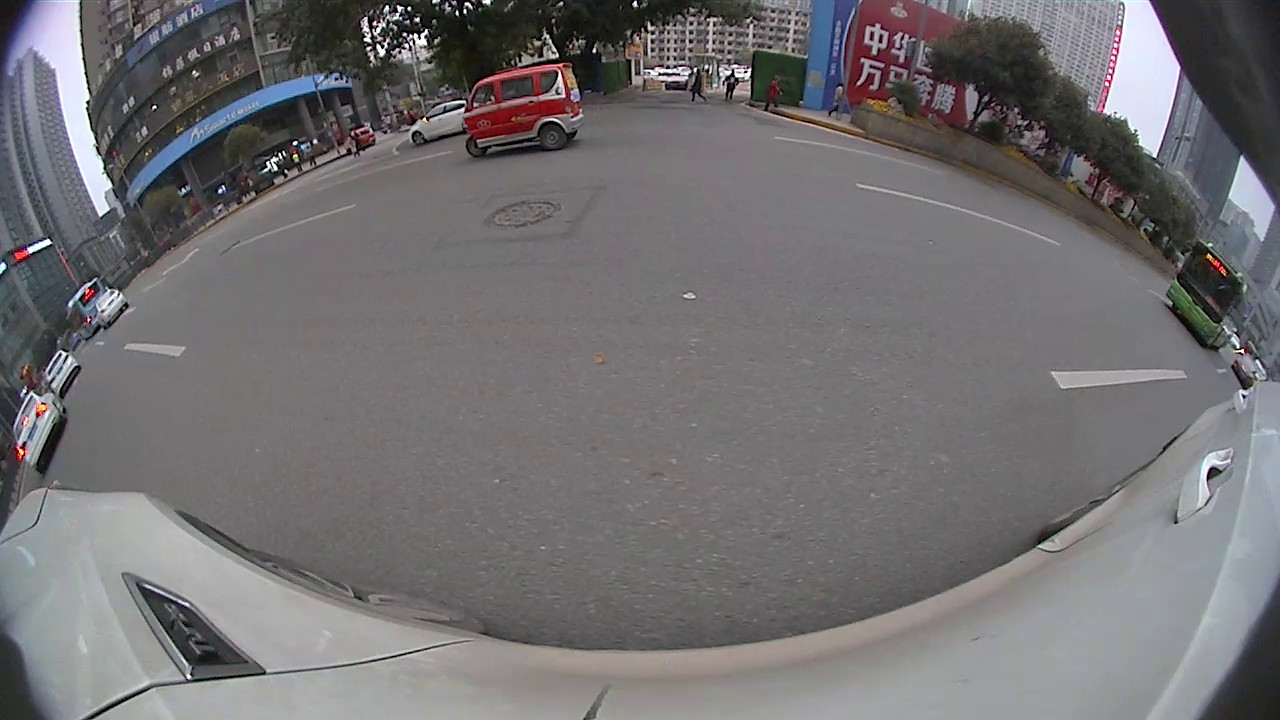bus: (1165, 238, 1249, 355), (66, 275, 107, 336)
car: (11, 389, 67, 475), (404, 98, 472, 148), (43, 349, 80, 394), (94, 286, 127, 329), (1232, 356, 1262, 385)
front: (462, 136, 487, 157), (410, 129, 428, 149)
rear: (537, 124, 570, 151)
rider: (460, 60, 588, 158)
